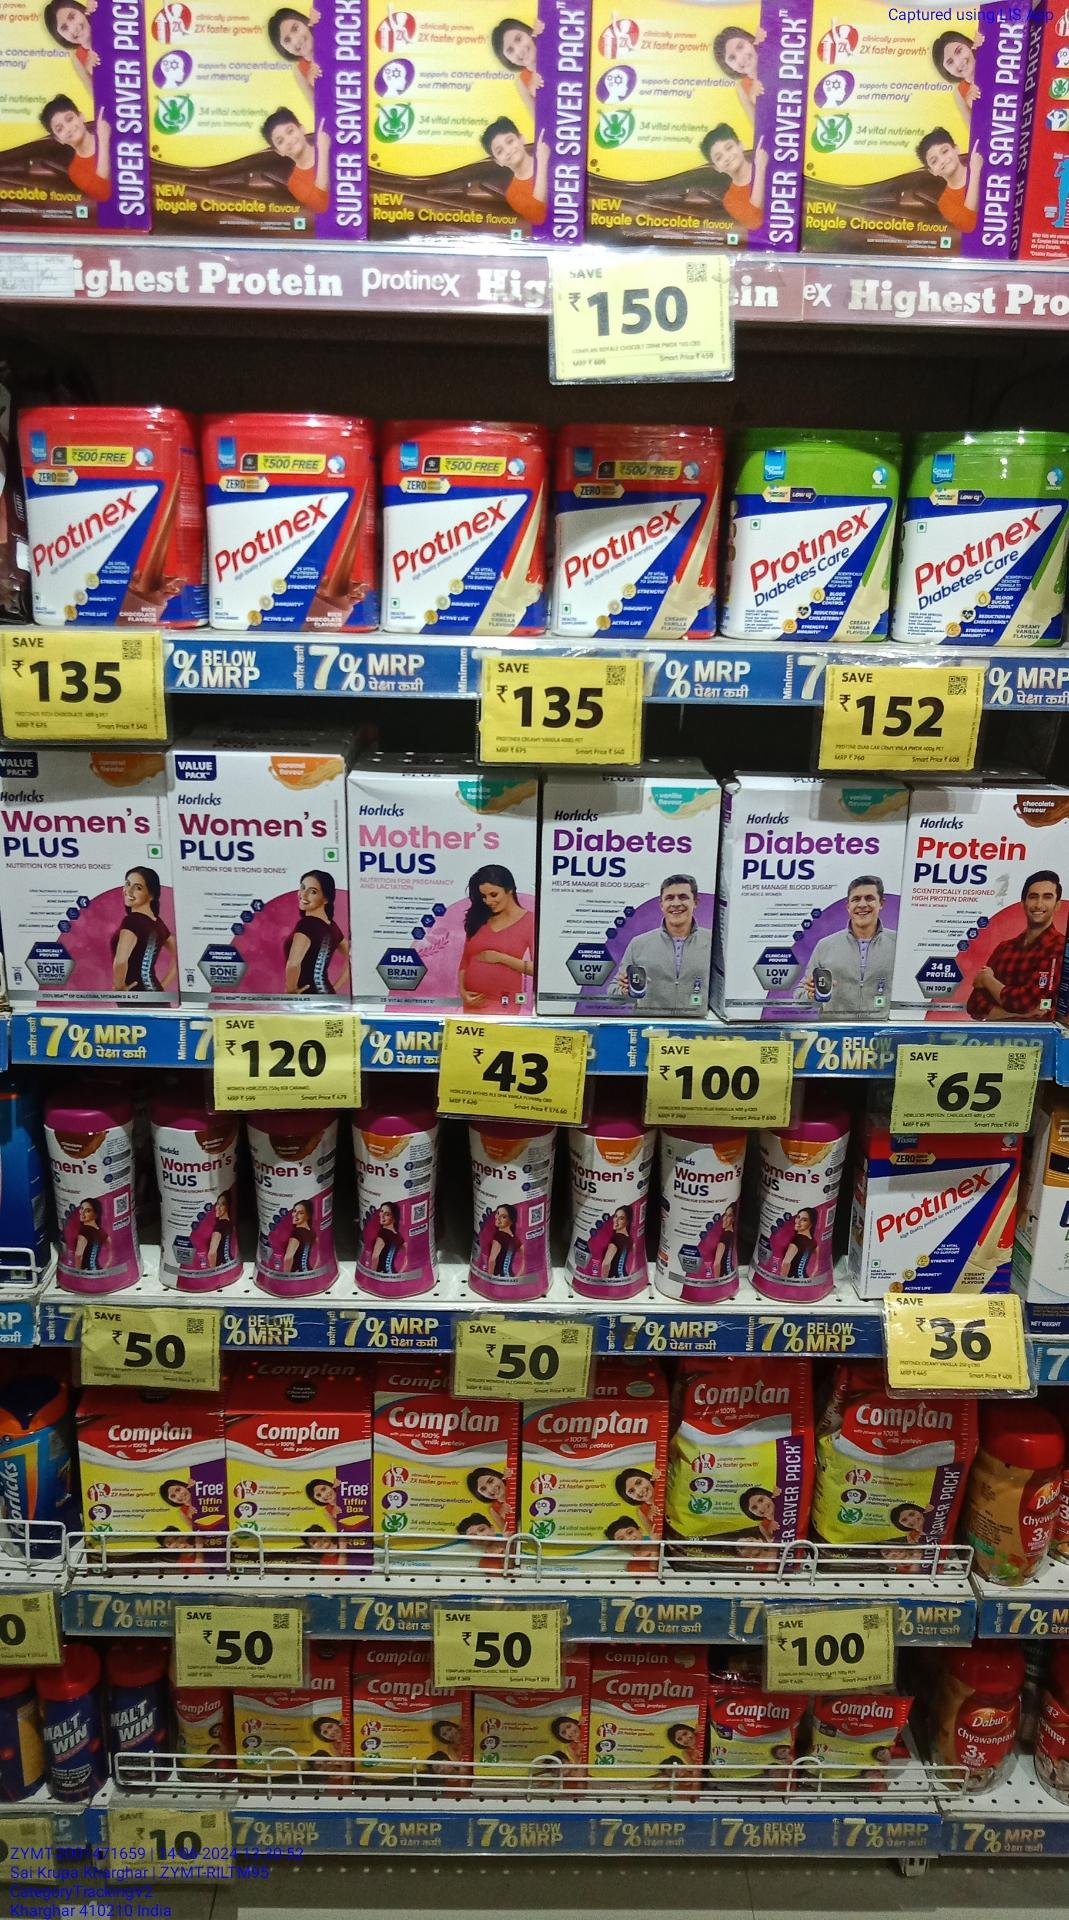COMPLAN_CHOCOLATE_1_KG_PACK: (807, 0, 1027, 255), (588, 0, 802, 247), (370, 0, 586, 242), (150, 0, 366, 242)
COMPLAN_CHOCOLATE_200_GMS_JAR: (171, 1682, 225, 1788)
COMPLAN_CHOCOLATE_200_GMS_PACK: (78, 1404, 222, 1566), (228, 1409, 370, 1574), (353, 1666, 466, 1795)
COMPLAN_CREAMY_CLASSIC_500_G_PACK: (373, 1392, 519, 1571), (523, 1402, 662, 1578)
COMPLAN_KESAR_BADAM_200_GMS_PACK: (588, 1667, 703, 1803), (470, 1688, 586, 1800)
COMPLAN_RC_POUCH_700_GMS_12: (679, 1357, 811, 1577), (823, 1394, 968, 1570)
PROTINEX_CHOCOLATE_400_G_JAR: (207, 411, 377, 632), (25, 403, 184, 629)
